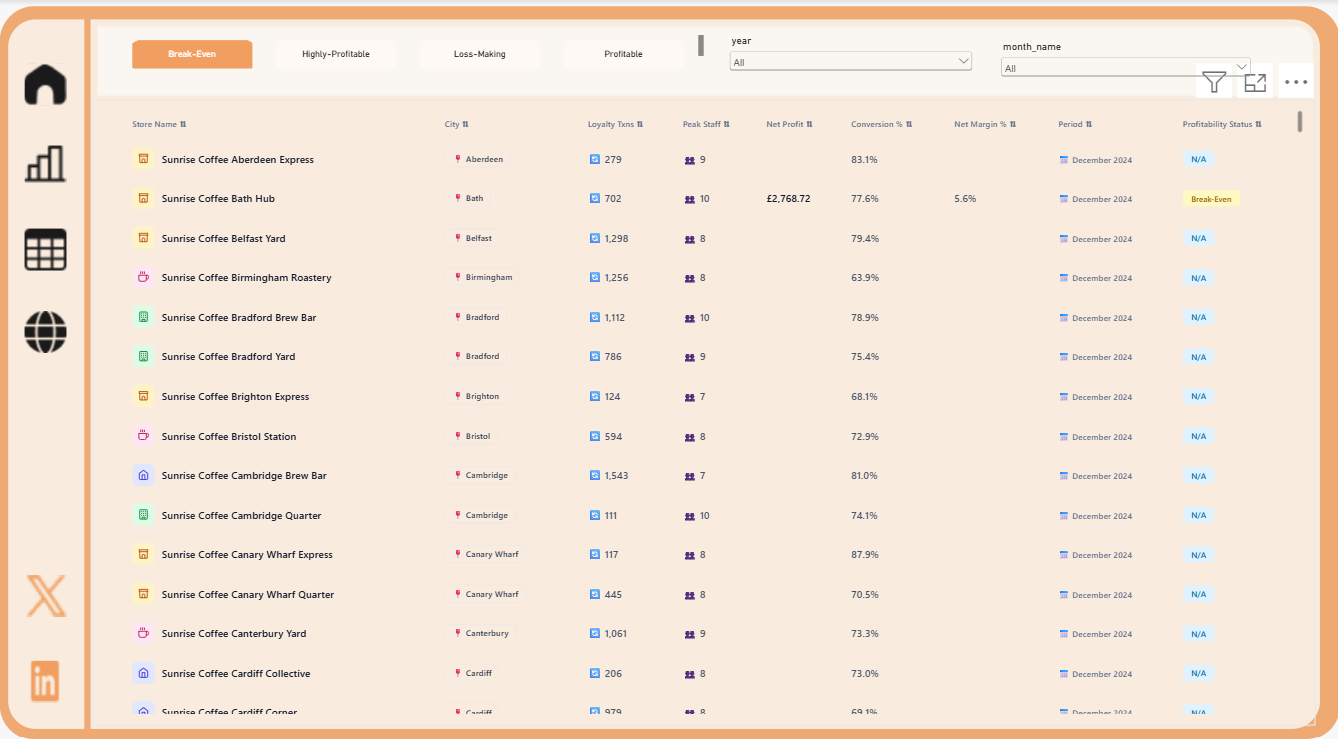

This screenshot's page, from the dashboard's own definition file:
{"tool":"powerbi","page":{"name":"Table_page","canvas":[1920,1080],"ordinal":2},"visuals":[{"type":"htmlContent443BE3AD55E043BF878BED274D3A6865","fields":{"content":["Measure.Store_Performance_HTML"]},"box":[131.2,143.2,1753.6,897.1],"z":0},{"type":"slicer","fields":{"Values":["dim_date.month_name"]},"box":[1429.2,59.6,367.4,64.4],"z":1000},{"type":"slicer","fields":{"Values":["dim_date.year"]},"box":[1040.3,52.5,357.9,83.5],"z":2000},{"type":"advancedSlicerVisual","fields":{"Values":["fact_store_monthly_profitability.profitability_status"]},"box":[176.6,52.5,832.7,57.3],"z":3000},{"type":"actionButton","box":[17.1,75.7,95.7,94.3],"z":4000},{"type":"actionButton","box":[17.1,190,95.7,94.3],"z":5000},{"type":"actionButton","box":[17.1,311.4,95.7,94.3],"z":6000},{"type":"actionButton","box":[17.1,430,95.7,94.3],"z":7000},{"type":"actionButton","box":[17.5,930,95.7,94.3],"z":8000},{"type":"actionButton","box":[18.6,807.1,95.7,94.3],"z":9000}]}

Visuals, with their boxes on the page's 1920x1080 design canvas (x1, y1, x2, y2). These are canvas units, not pixel positions in the 1338x739 screenshot, which may show the page scaled, cropped or inside an application window:
htmlContent443BE3AD55E043BF878BED274D3A6865 - Measure.Store_Performance_HTML: pyautogui.locateOnScreen(131, 143, 1885, 1040)
slicer - dim_date.month_name: pyautogui.locateOnScreen(1429, 60, 1797, 124)
slicer - dim_date.year: pyautogui.locateOnScreen(1040, 52, 1398, 136)
advancedSlicerVisual - fact_store_monthly_profitability.profitability_status: pyautogui.locateOnScreen(177, 52, 1009, 110)
actionButton: pyautogui.locateOnScreen(17, 76, 113, 170)
actionButton: pyautogui.locateOnScreen(17, 190, 113, 284)
actionButton: pyautogui.locateOnScreen(17, 311, 113, 406)
actionButton: pyautogui.locateOnScreen(17, 430, 113, 524)
actionButton: pyautogui.locateOnScreen(18, 930, 113, 1024)
actionButton: pyautogui.locateOnScreen(19, 807, 114, 901)
